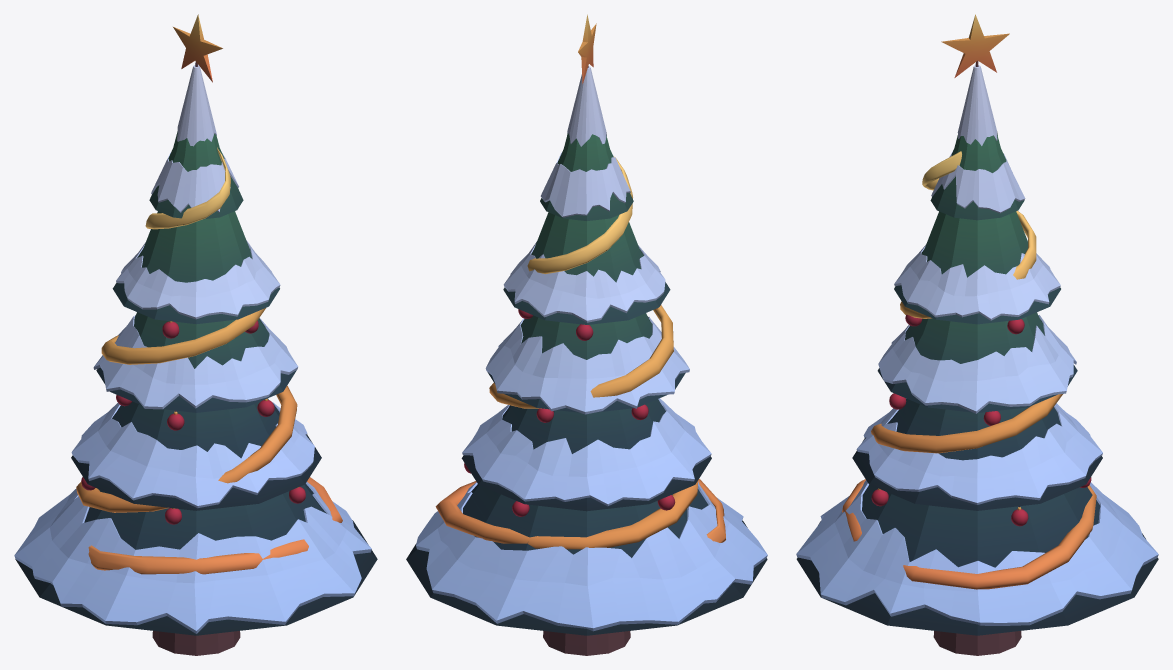
Rendered from treeDeco.fbx.
3 renders of one model, left to right at view 1: azimuth 30°, elevation 25°; view 2: azimuth 150°, elevation 25°; view 3: azimuth 270°, elevation 25°, orthographic.
Visible parts, largest first — view 1: snow, pynt; view 2: snow, pynt; view 3: snow, pynt.
Boxes of the visible parts, x1,y1,x2,y2 form: snow: (14,65,377,655); pynt: (76,14,342,574); snow: (406,66,767,655); pynt: (435,14,725,549); snow: (796,65,1158,655); pynt: (842,14,1096,589).
Bounding box in the file's own units: 111 × 210 × 111.
